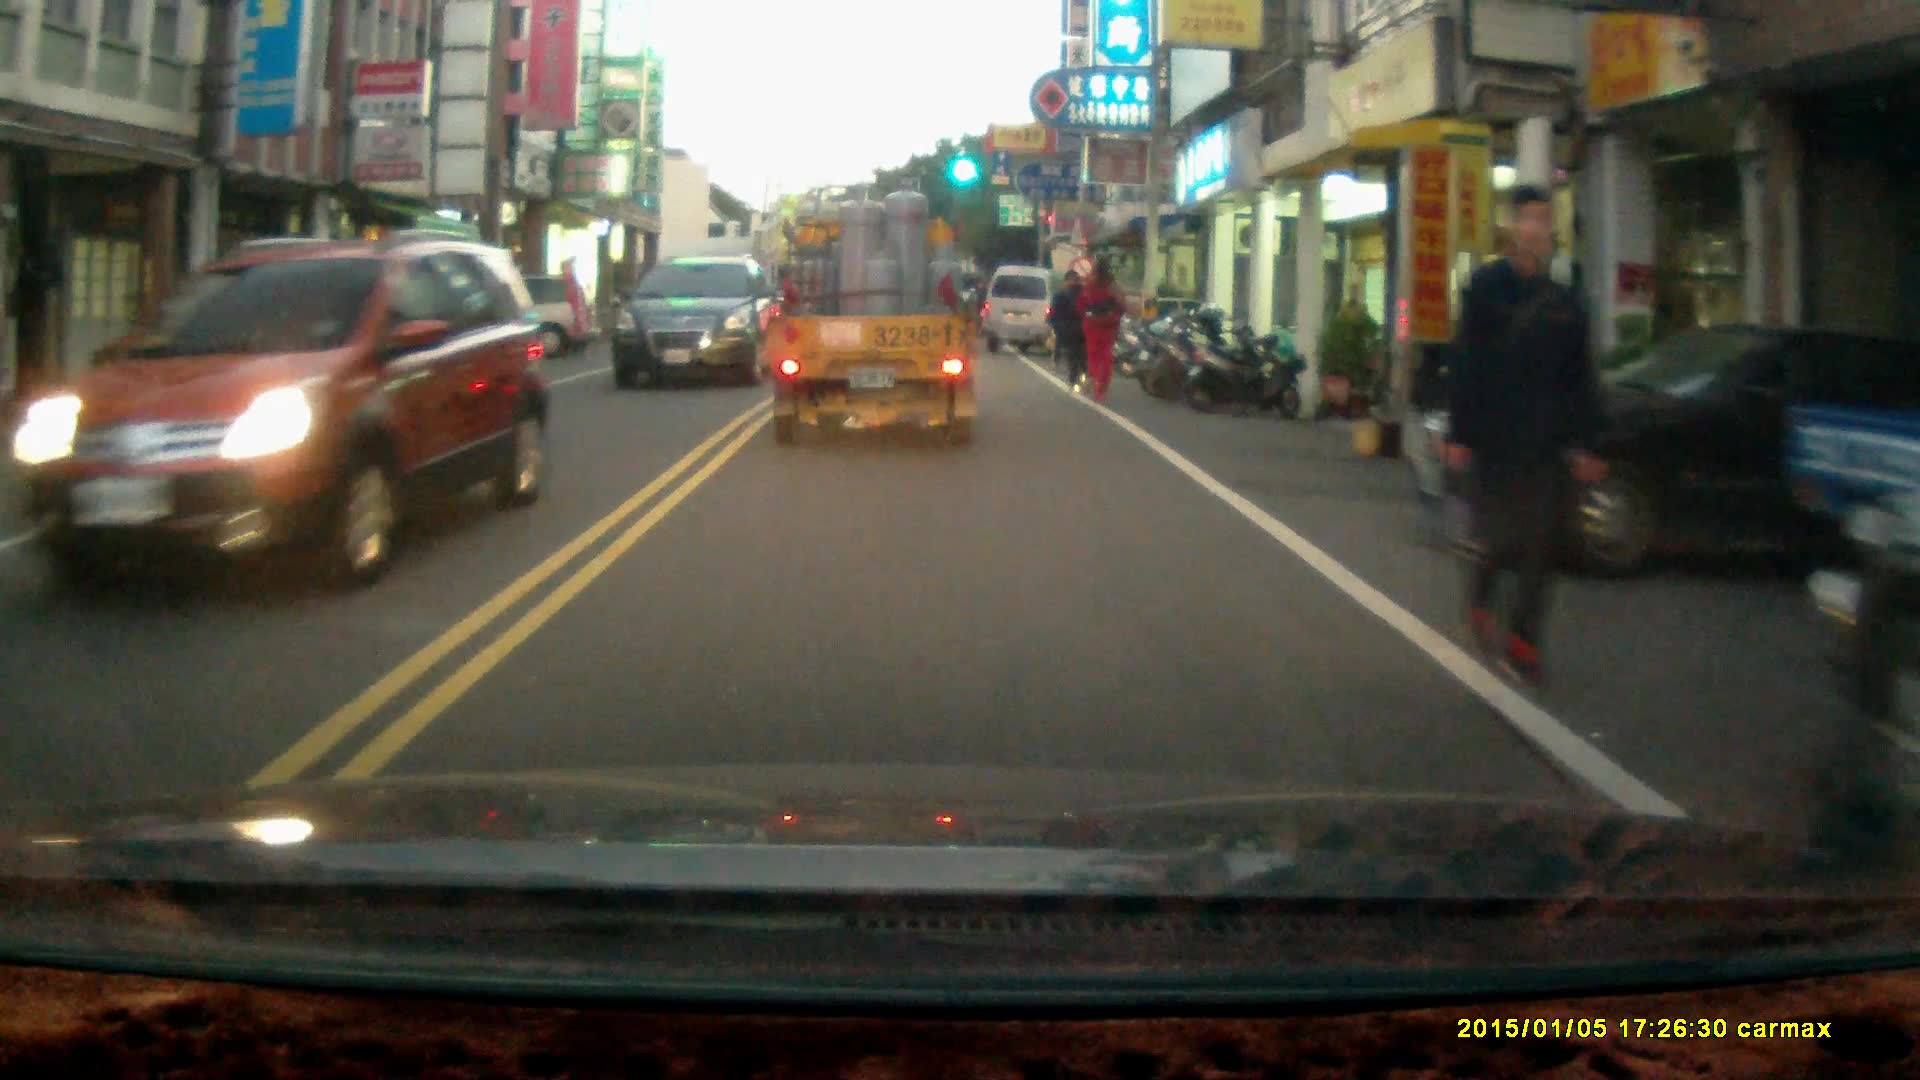pedestrian: (1437, 175, 1602, 693), (1080, 259, 1121, 401), (1055, 269, 1093, 393), (1333, 280, 1367, 370)
vehicle: (54, 227, 525, 616), (1404, 314, 1920, 585), (765, 190, 986, 473), (611, 256, 780, 393), (985, 262, 1069, 353)
